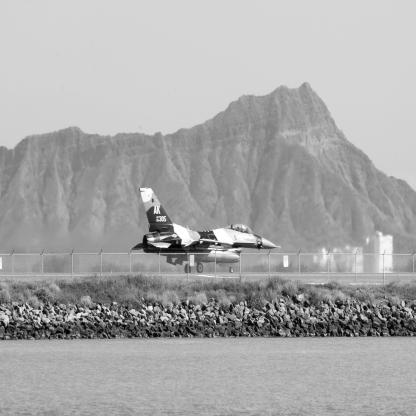F16: (132, 188, 283, 274)
